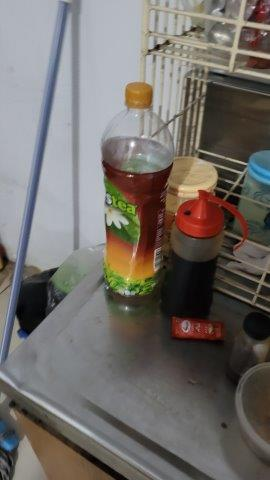botolplastik: (101, 81, 174, 303)
